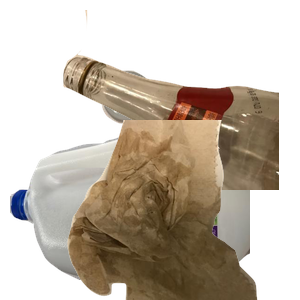glass: (60, 10, 300, 190)
metal: (99, 68, 244, 184)
plastic: (10, 120, 250, 300)
trash: (65, 120, 300, 300)
